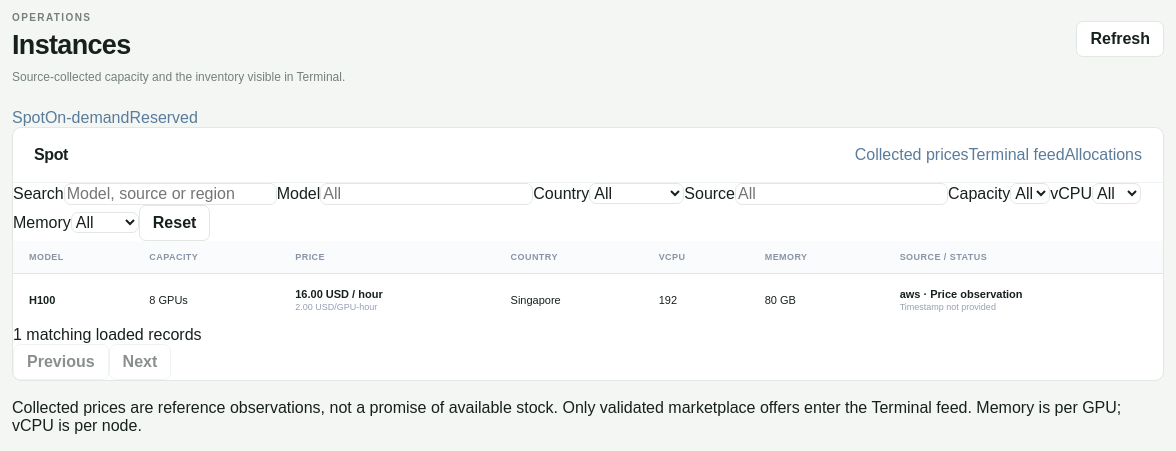
Test: operations pages › shows the Terminal column order and functional catalog filters
This screenshot has width=1176, height=451.
Expected: the text "16.00 USD / hour" is shown, [295,288,383,300]
Expected: the links read "Spot", "On-demand", "Reserved", in this order, [12,109,45,126]; [45,109,129,126]; [129,109,198,126]
Type "B300" into the search field with placeholder "Model, source or region" at (170, 194), box [64,183,277,205]
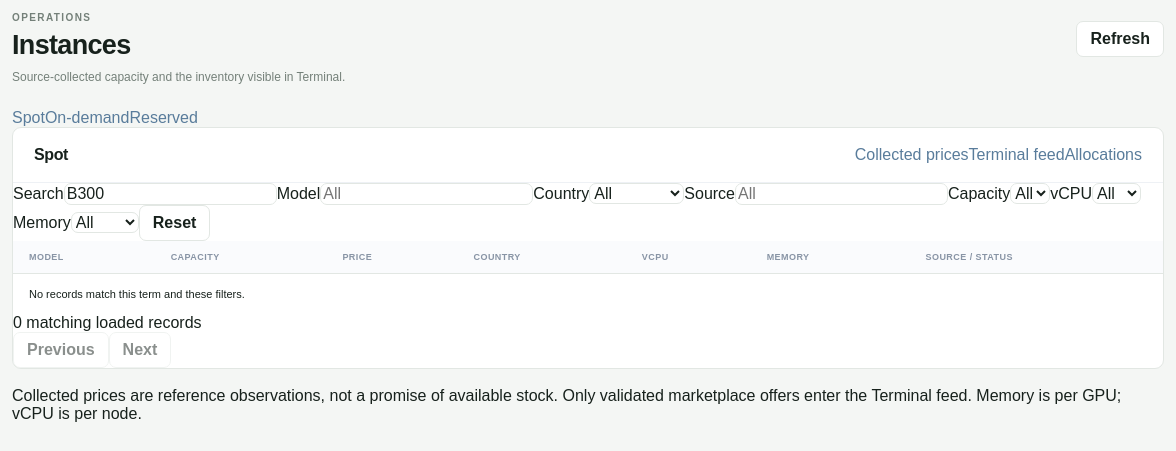
Now the text "No records match this term and these filters." is shown, box [13,274,1163,314]
Click the button "Reset" at (175, 223), box [139,205,210,241]
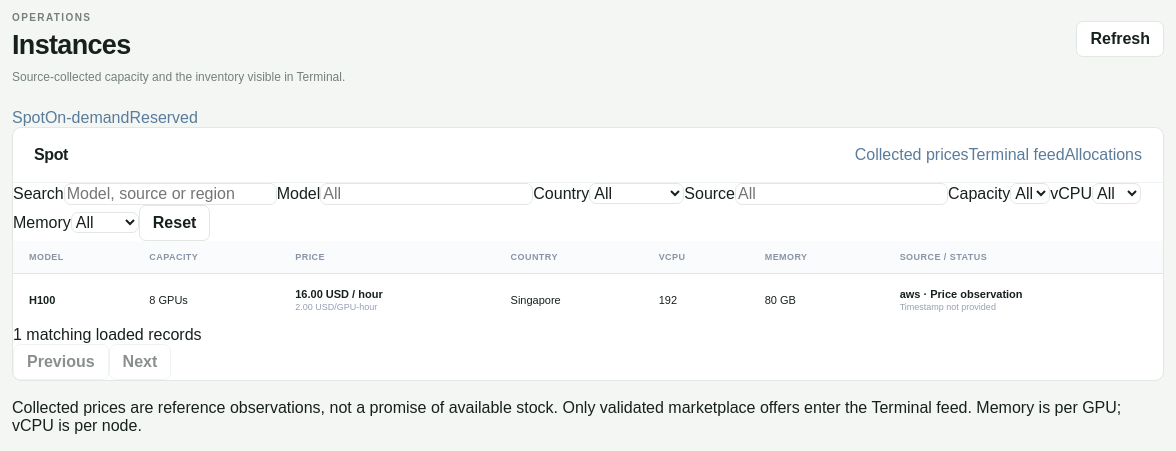
Now the text "16.00 USD / hour" is shown, box [295,288,383,300]
